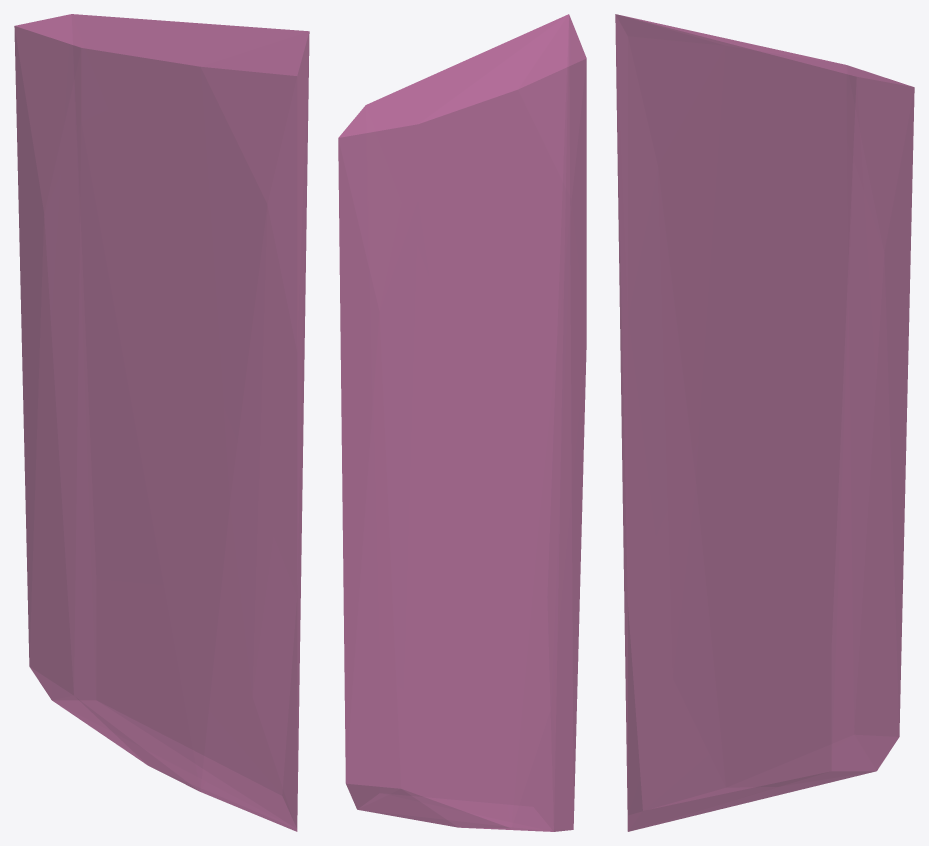
The picture shows the model from 3 angles, left to right: view 1: azimuth 90°, elevation 25°; view 2: azimuth 150°, elevation 25°; view 3: azimuth 270°, elevation 25°; orthographic projection.
Parts seen in each view (by area): view 1: Shape_IndexedFaceSet.007_Shape_IndexedFaceSet.12329; view 2: Shape_IndexedFaceSet.007_Shape_IndexedFaceSet.12329; view 3: Shape_IndexedFaceSet.007_Shape_IndexedFaceSet.12329.
Part boxes in pixels (x1,y1,x2,y2): Shape_IndexedFaceSet.007_Shape_IndexedFaceSet.12329: [14, 14, 309, 831]; Shape_IndexedFaceSet.007_Shape_IndexedFaceSet.12329: [338, 14, 586, 831]; Shape_IndexedFaceSet.007_Shape_IndexedFaceSet.12329: [615, 14, 914, 831].
Bounding box in the file's own units: 0.0404 × 0.2964 × 0.0988.
